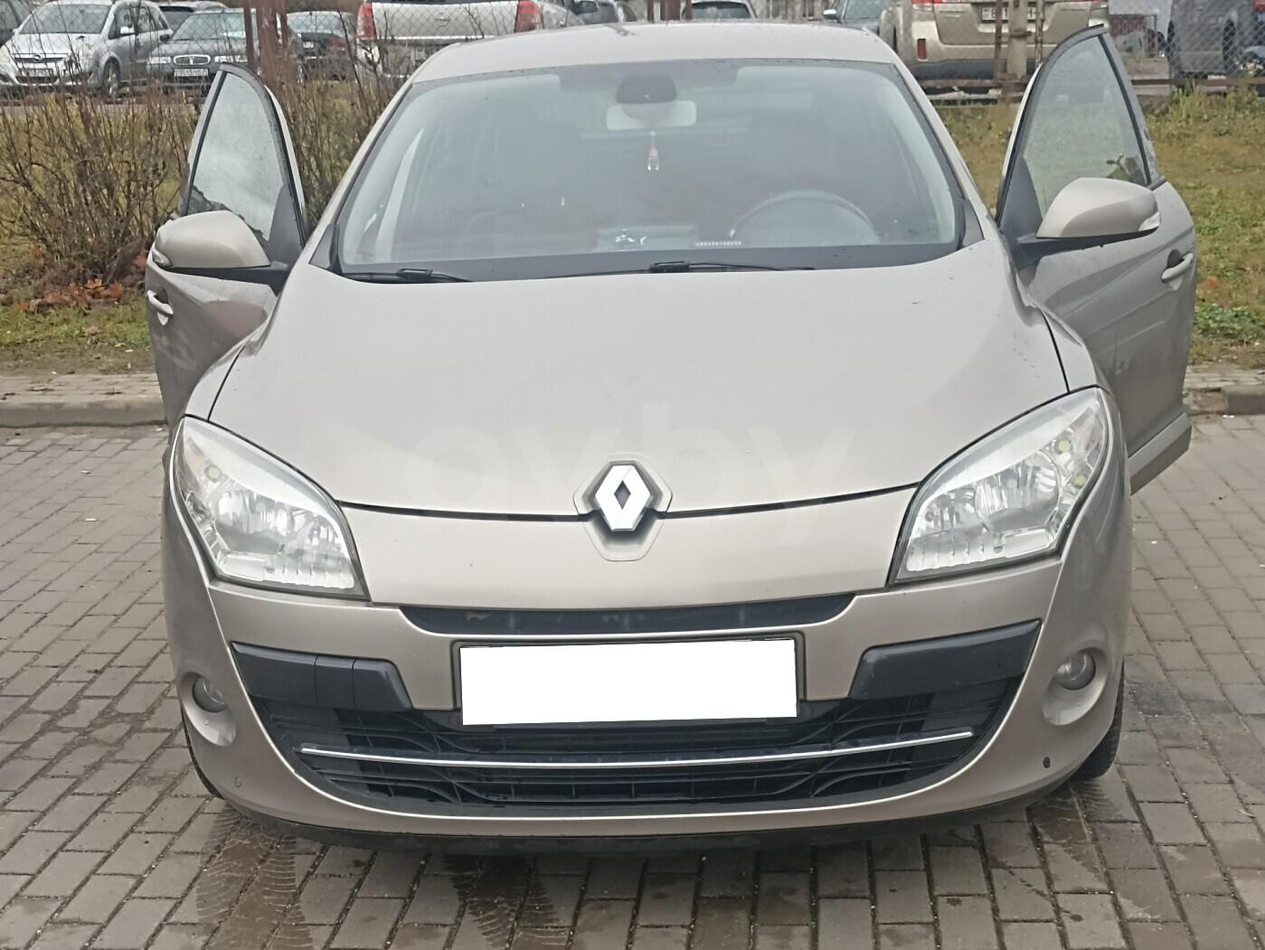Megane_2008-2014: (136, 17, 1166, 846)
